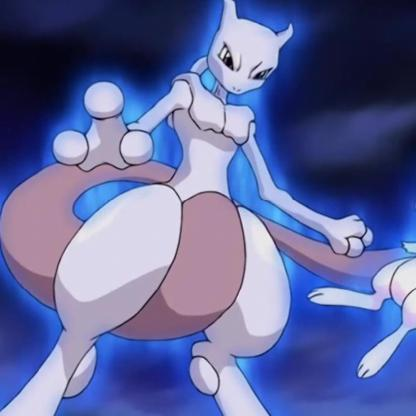Mewtwo: (1, 7, 416, 416), (1, 2, 416, 402)
